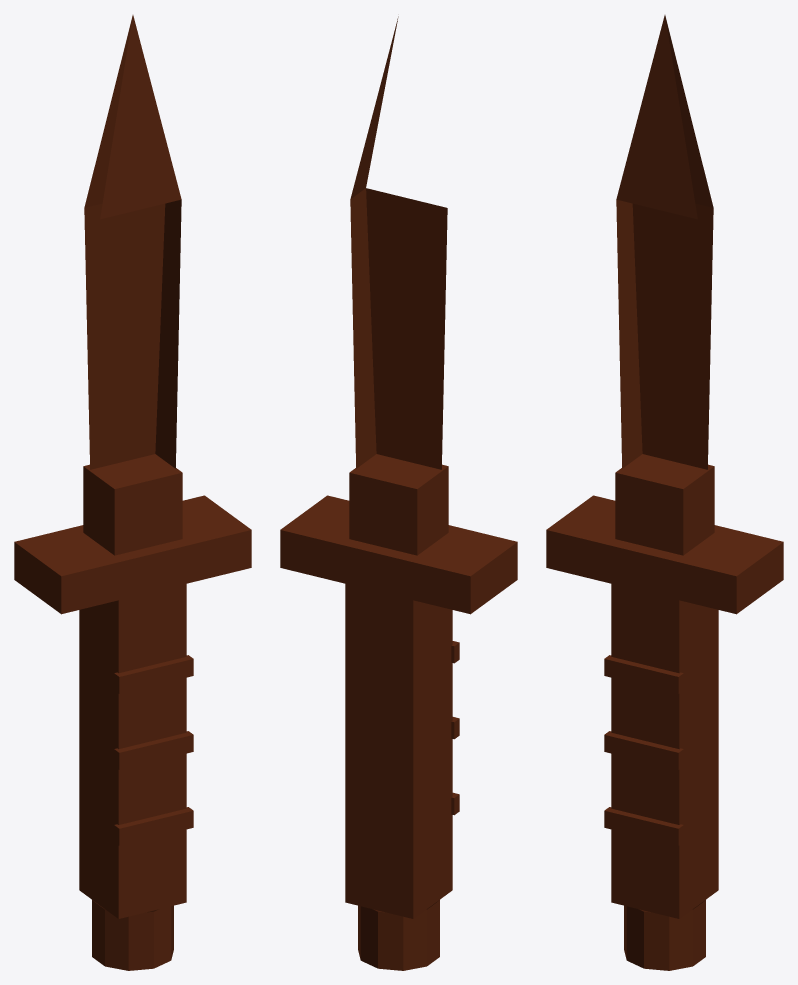
Rendered from cuchillo-supervivencia.obj.
3 renders of one model, left to right at view 1: azimuth 30°, elevation 25°; view 2: azimuth 150°, elevation 25°; view 3: azimuth 330°, elevation 25°, orthographic.
Visible parts, largest first — view 1: Cuchillo_Supervivencia_Tekaym; view 2: Cuchillo_Supervivencia_Tekaym; view 3: Cuchillo_Supervivencia_Tekaym.
Part boxes in pixels (x1,y1,x2,y2): Cuchillo_Supervivencia_Tekaym: (14, 15, 251, 970); Cuchillo_Supervivencia_Tekaym: (280, 16, 517, 970); Cuchillo_Supervivencia_Tekaym: (546, 15, 783, 970).
Bounding box in the file's own units: 0.21 × 0.99 × 0.09.
